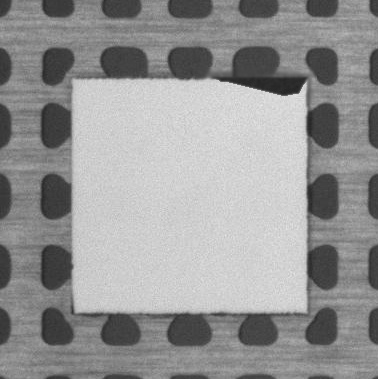DIE_BROKEN: (211, 71, 311, 96)
